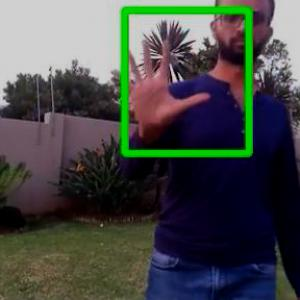follow_hand: (112, 33, 208, 138)
